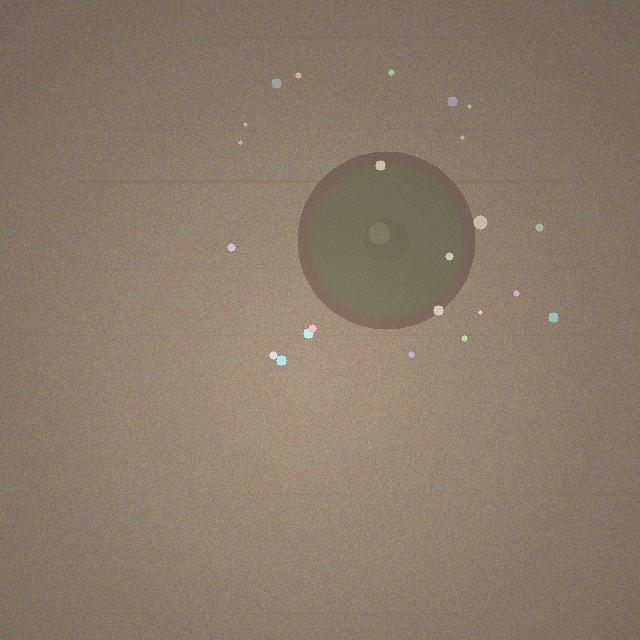overburn: (297, 151, 475, 329)
